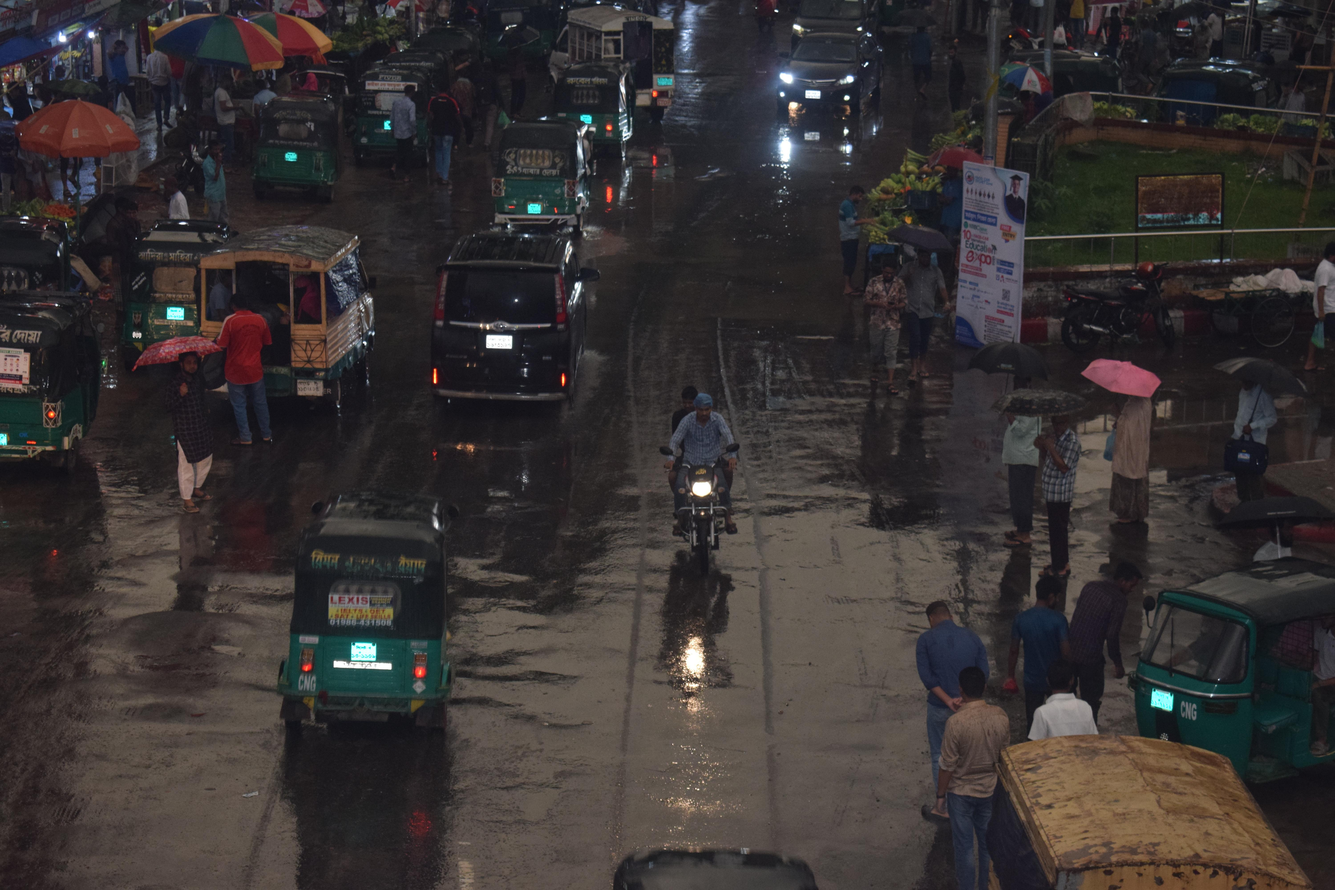Bike: (627, 346, 784, 595)
Car: (944, 691, 1335, 890), (406, 216, 627, 444), (170, 214, 398, 428), (520, 0, 700, 140), (756, 6, 908, 157)
